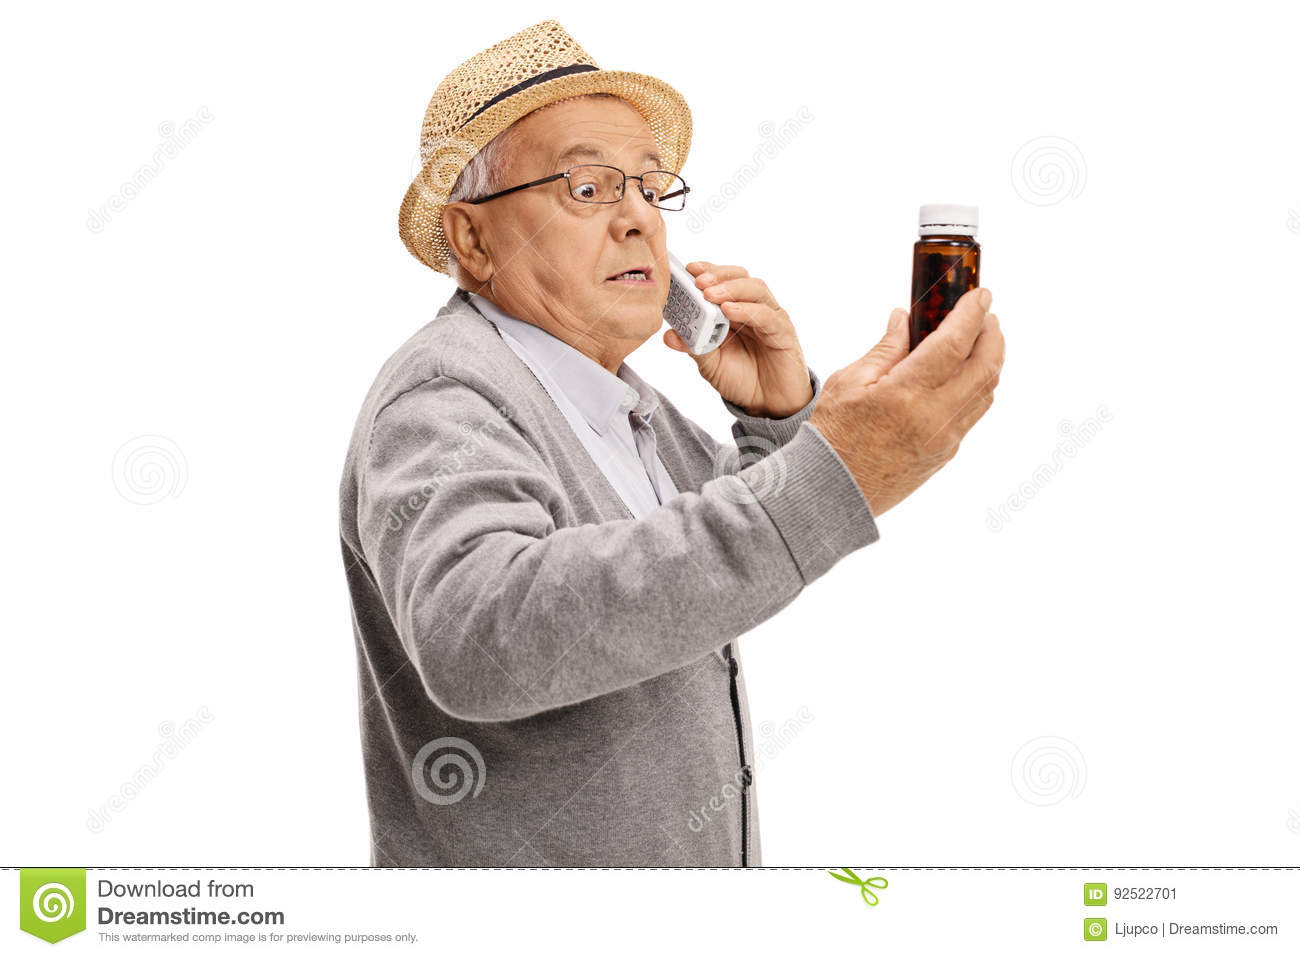phone: (660, 242, 734, 355)
talk: (547, 139, 811, 413)
